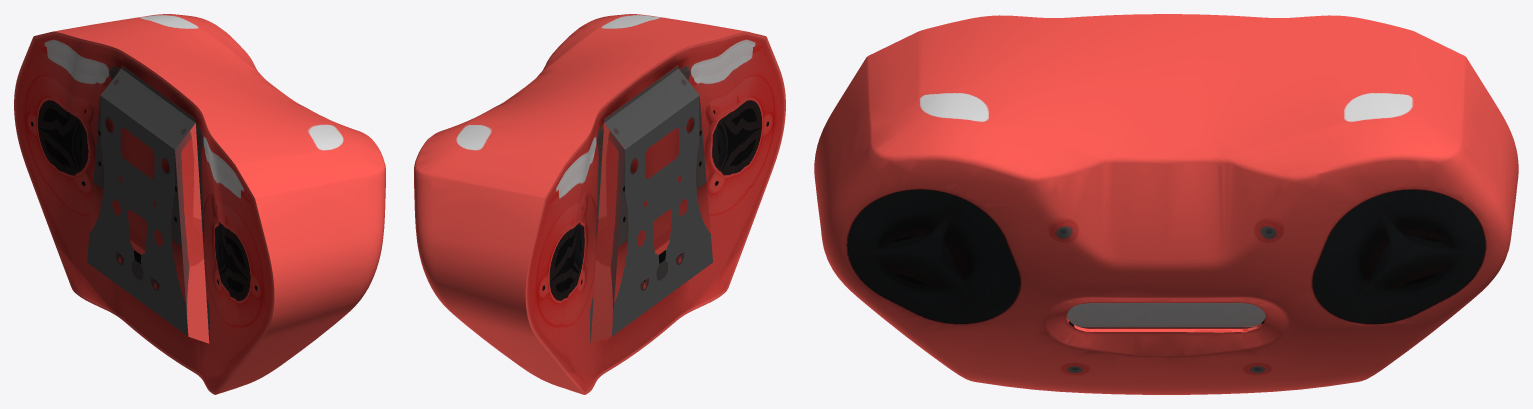
3 renders of one model, left to right at view 1: azimuth 30°, elevation 25°; view 2: azimuth 150°, elevation 25°; view 3: azimuth 270°, elevation 25°, orthographic. The views are drawn at different scales.
Visible parts, largest first — view 1: AM3 Face LP; view 2: AM3 Face LP; view 3: AM3 Face LP.
Part boxes in pixels (x1,y1,x2,y2): AM3 Face LP: [14, 14, 385, 394]; AM3 Face LP: [414, 14, 785, 394]; AM3 Face LP: [814, 14, 1518, 394].
Bounding box in the file's own units: 0.1113 × 0.3089 × 0.1795.
Materials: 1 (1 with a texture image).
